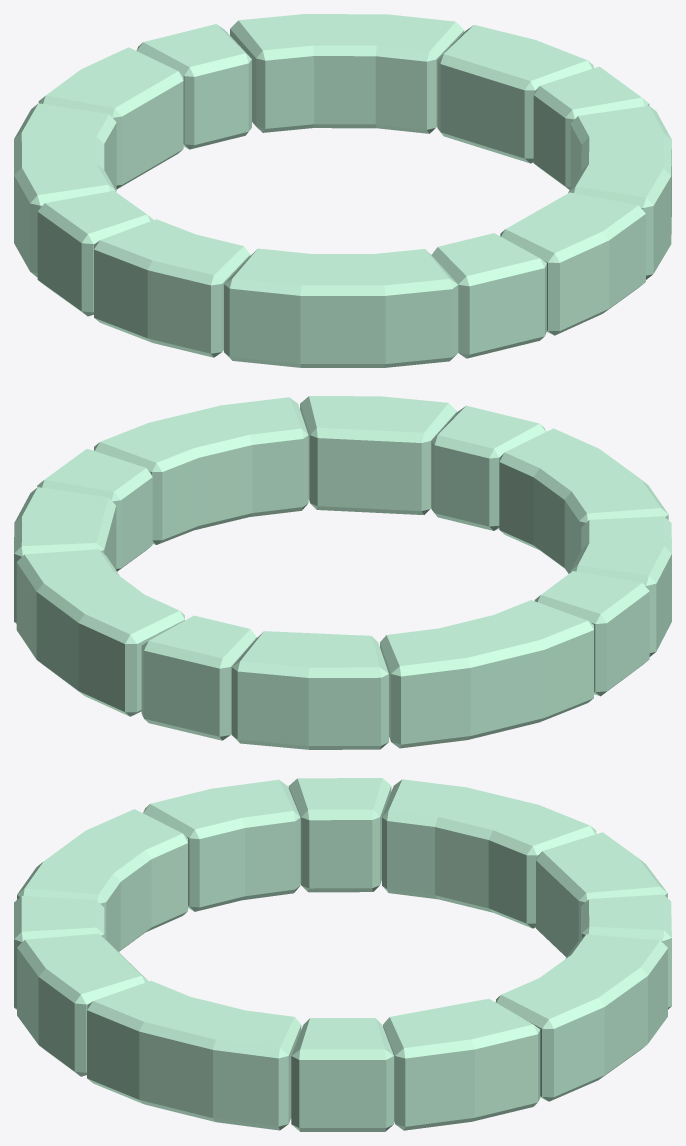
The model's file is well.glb.
3 renders of one model, top to bottom at view 1: azimuth 30°, elevation 25°; view 2: azimuth 150°, elevation 25°; view 3: azimuth 270°, elevation 25°, orthographic.
Parts seen in each view (by area): view 1: Cube.001; view 2: Cube.001; view 3: Cube.001.
Boxes of the visible parts, x1=… form: Cube.001: x1=14, y1=14, x2=671, y2=367; Cube.001: x1=14, y1=396, x2=671, y2=749; Cube.001: x1=14, y1=778, x2=671, y2=1131.
Bounding box in the file's own units: 14.45 × 2 × 14.45.
